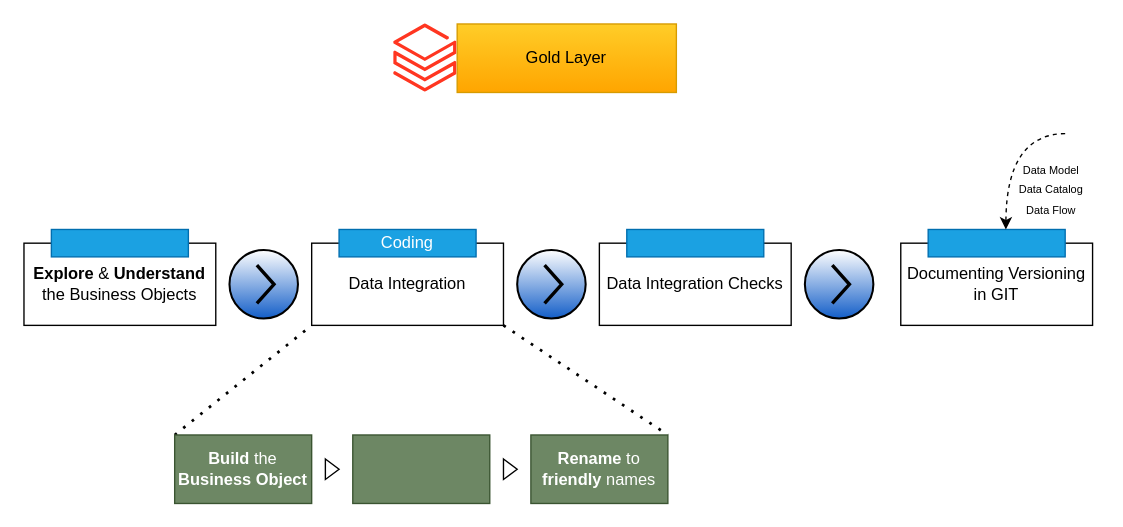
This 1123x527 diagram has some shape labels left out. The shapes that lost their labels are listed below. From the top down, each one's centre as x and y in pixels, then its label:
point (119, 242): Analysing
point (694, 242): Validating
point (996, 242): Docs & Version
point (420, 468): Choose Type Dimension vs Fact
